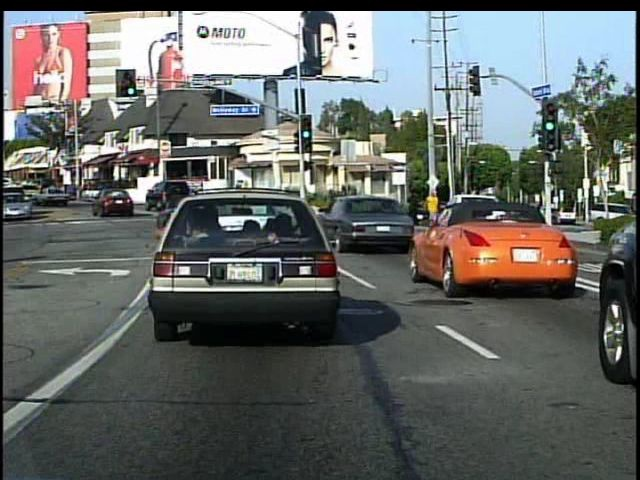person: (404, 187, 422, 229), (424, 188, 442, 226)
